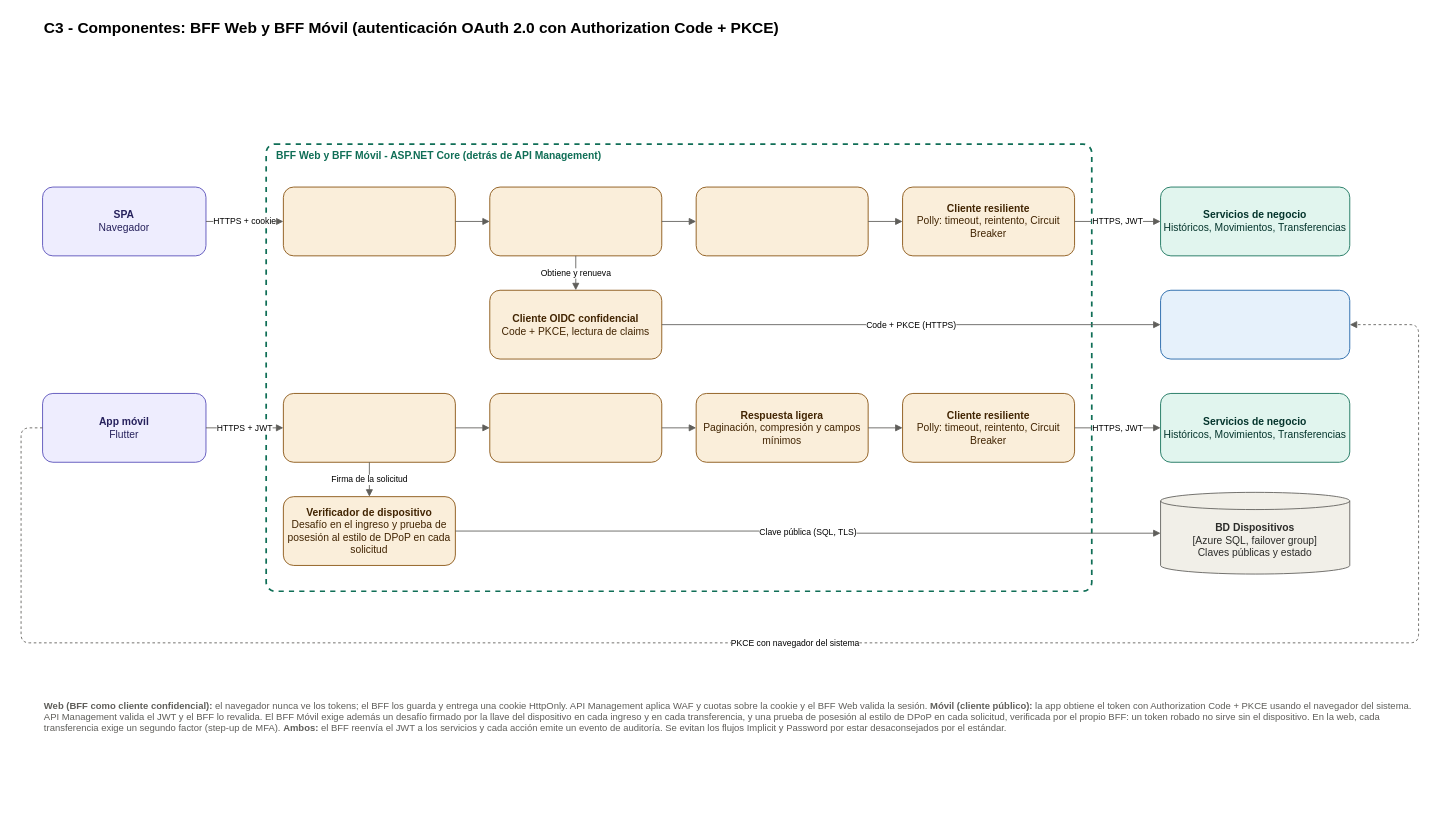
Image size: 1441x838. Some labels were removed from this diagram. Here are the shapes that lost their labels. From the top down, the centre of each, then its label:
point (369, 221): Filtro de sesión y CSRF Cookie HttpOnly, Secure, SameSite
point (575, 221): Token handler Tokens solo en el servidor, rota el refresh token
point (781, 221): Agregador Compone respuestas, correlación y auditoría
point (1255, 324): Entra External ID Proveedor OAuth 2.0 / OIDC
point (369, 427): Validación del JWT Firma, audiencia, expiración y claims
point (575, 427): Correlación y auditoría Id de operación y evento por acción
